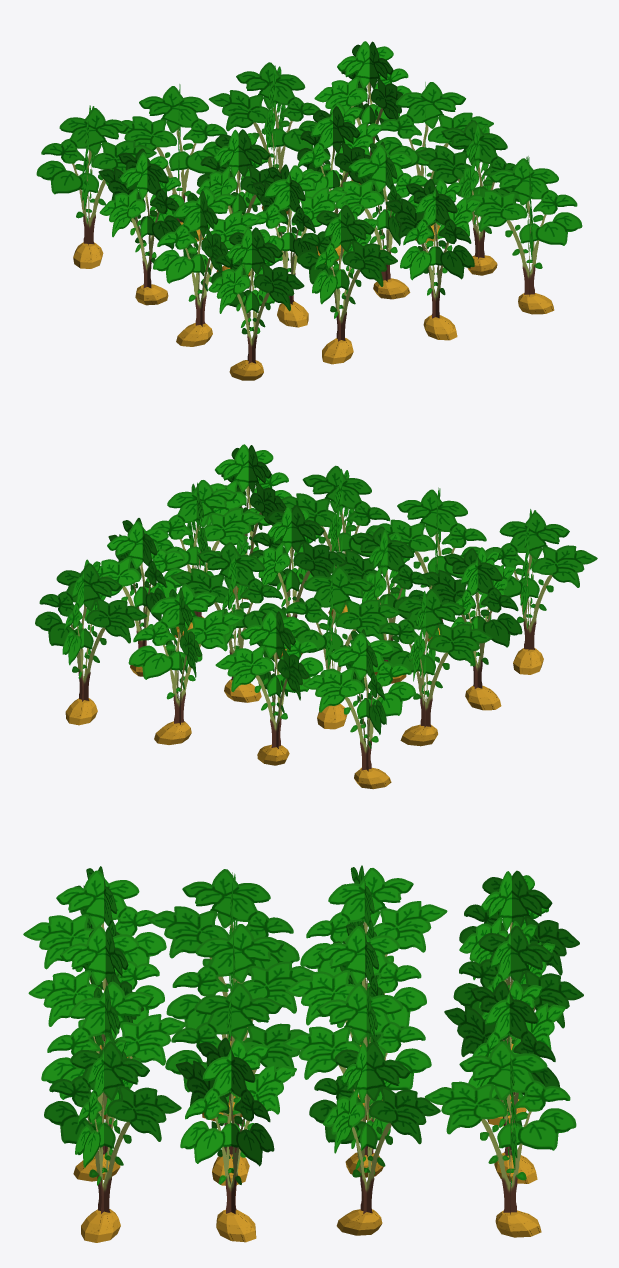
The model's file is Potato_F3.fbx.
3 renders of one model, top to bottom at view 1: azimuth 30°, elevation 25°; view 2: azimuth 150°, elevation 25°; view 3: azimuth 270°, elevation 25°, orthographic. The views are drawn at different scales.
Visible parts, largest first — view 1: Potatoe_F3; view 2: Potatoe_F3; view 3: Potatoe_F3.
Part boxes in pixels (box(x1,y1,x2,y2)): Potatoe_F3: box(36, 41, 582, 380); Potatoe_F3: box(35, 444, 597, 789); Potatoe_F3: box(23, 865, 583, 1242).
Bounding box in the file's own units: 240 × 84.4 × 238.
